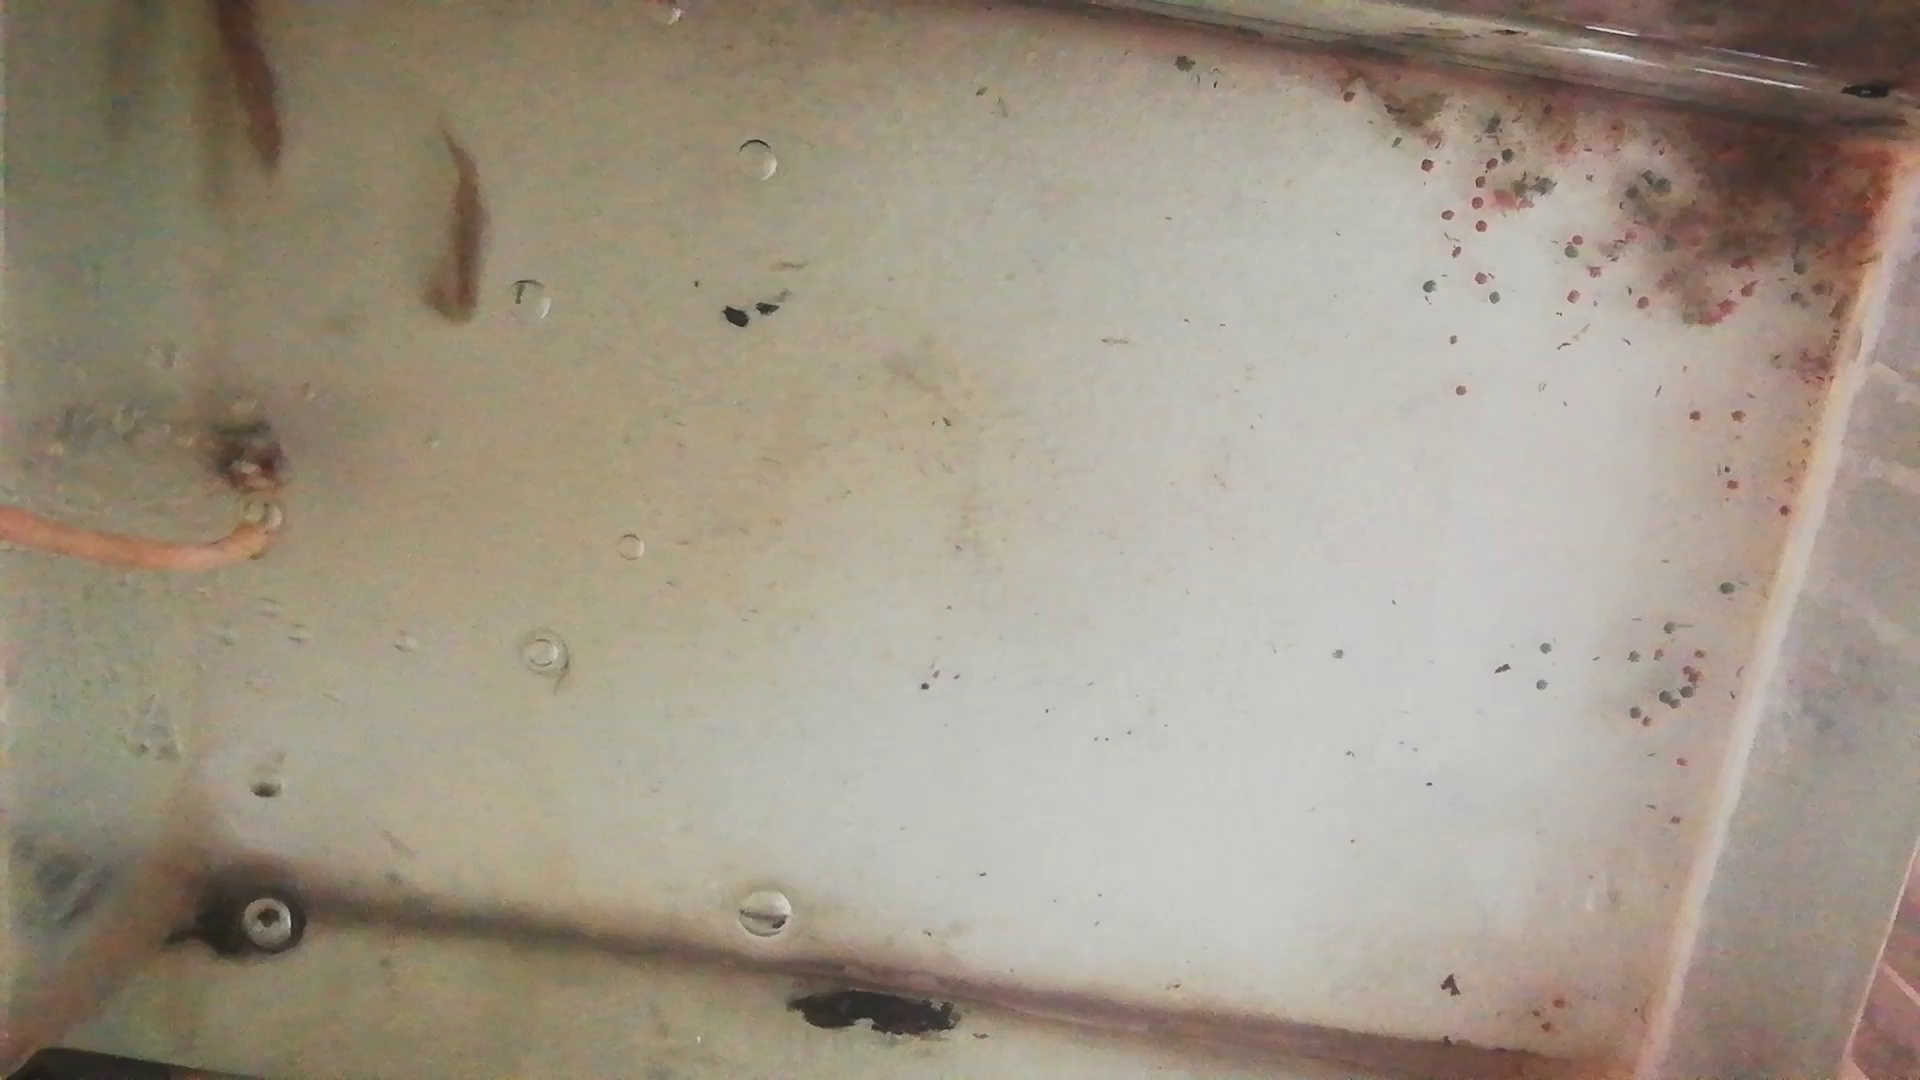fish: (204, 1, 290, 181), (429, 129, 491, 320)
